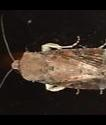army worm adult: (1, 15, 106, 111)
